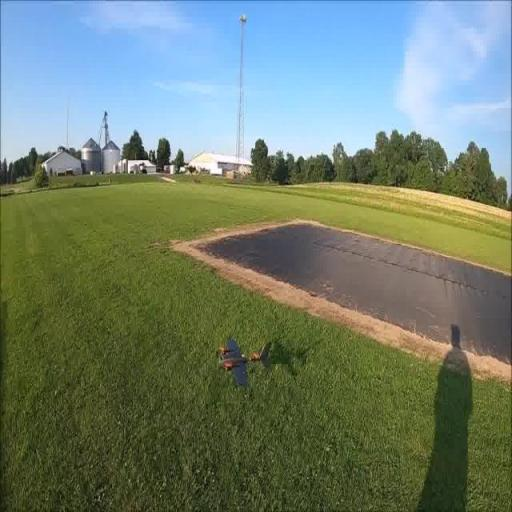uav: (217, 332, 276, 392)
